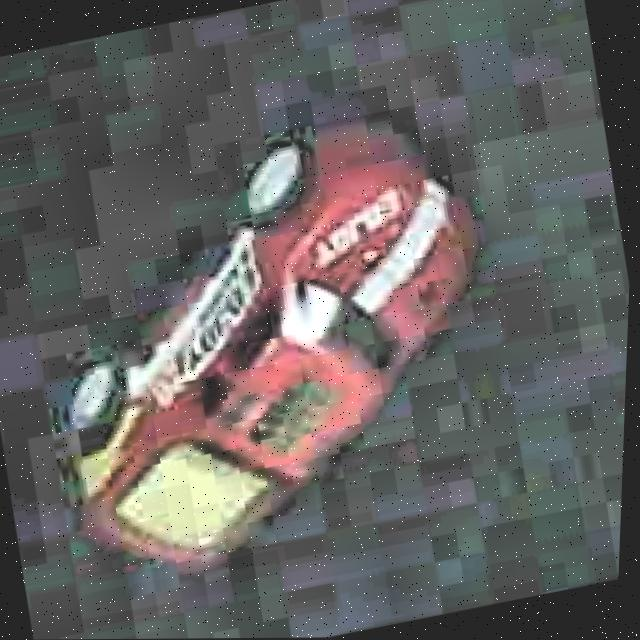car: (0, 94, 535, 595)
